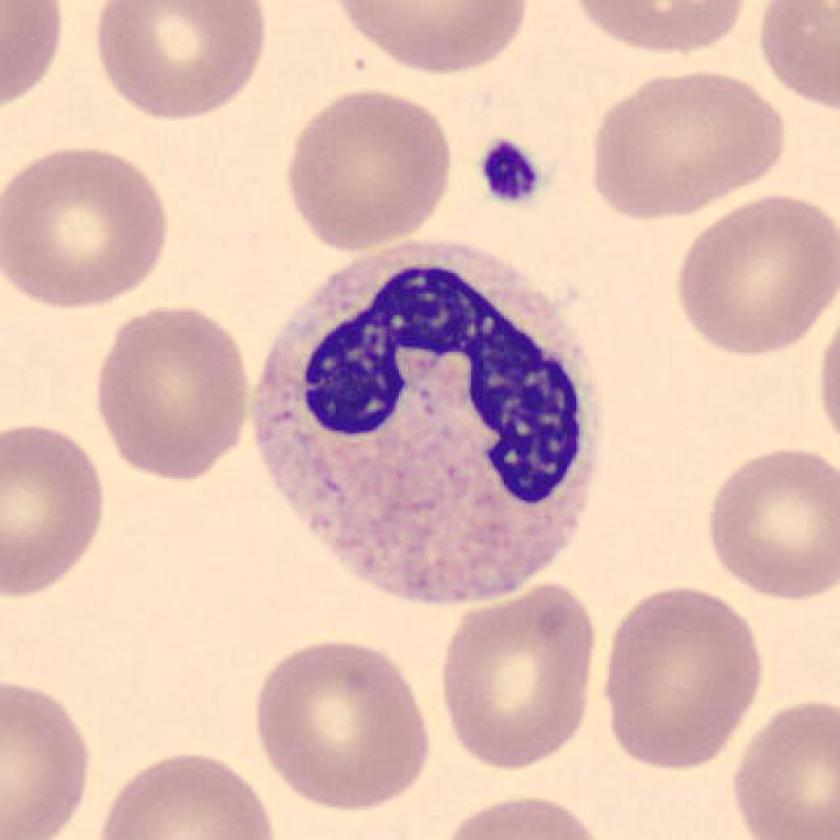neutrophil: (253, 245, 607, 602)
